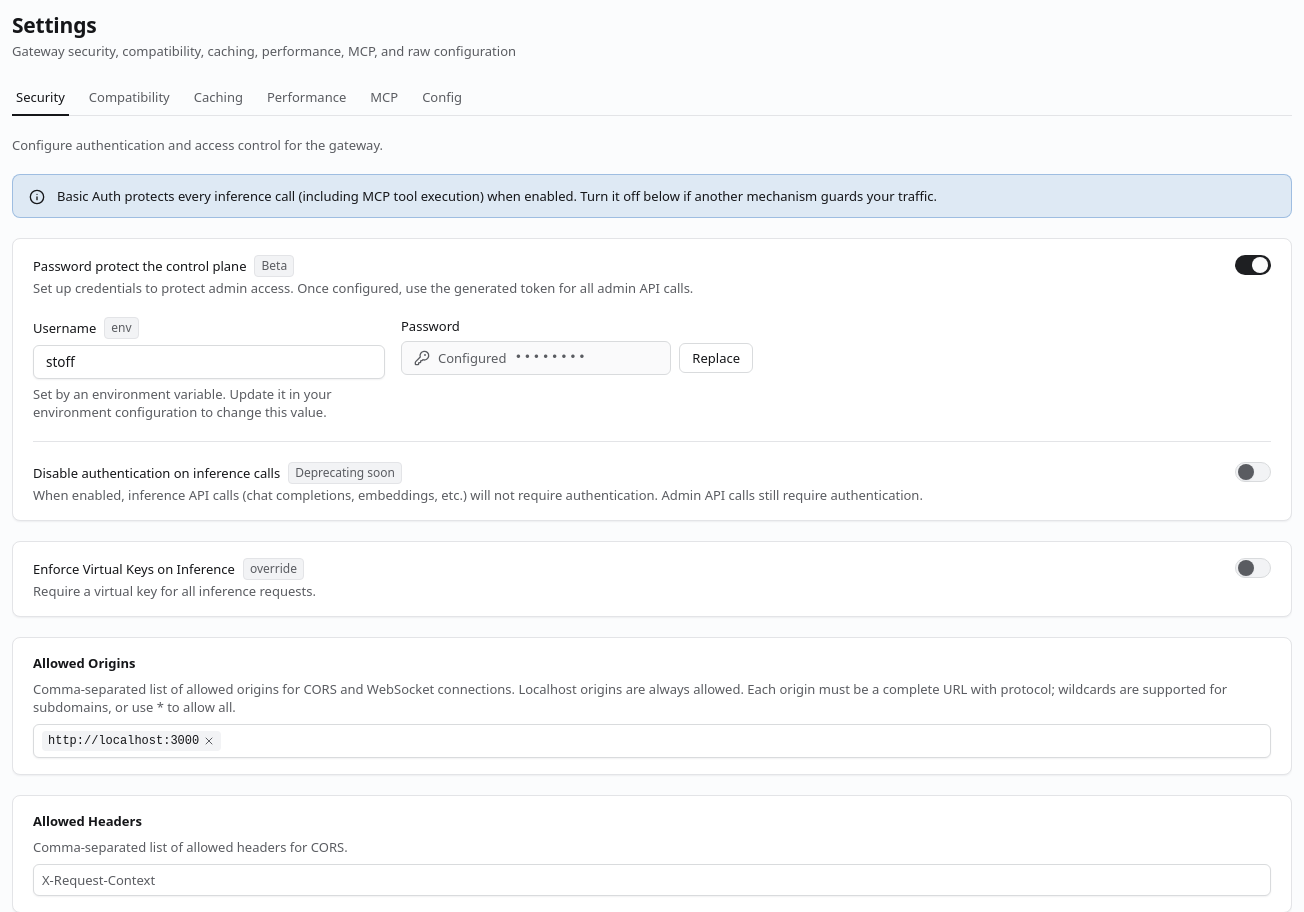
SettingsView compatibility › renders four toggles and saves only the changed one
Click the tab "Compatibility" at (129, 98), box [85, 80, 174, 116]
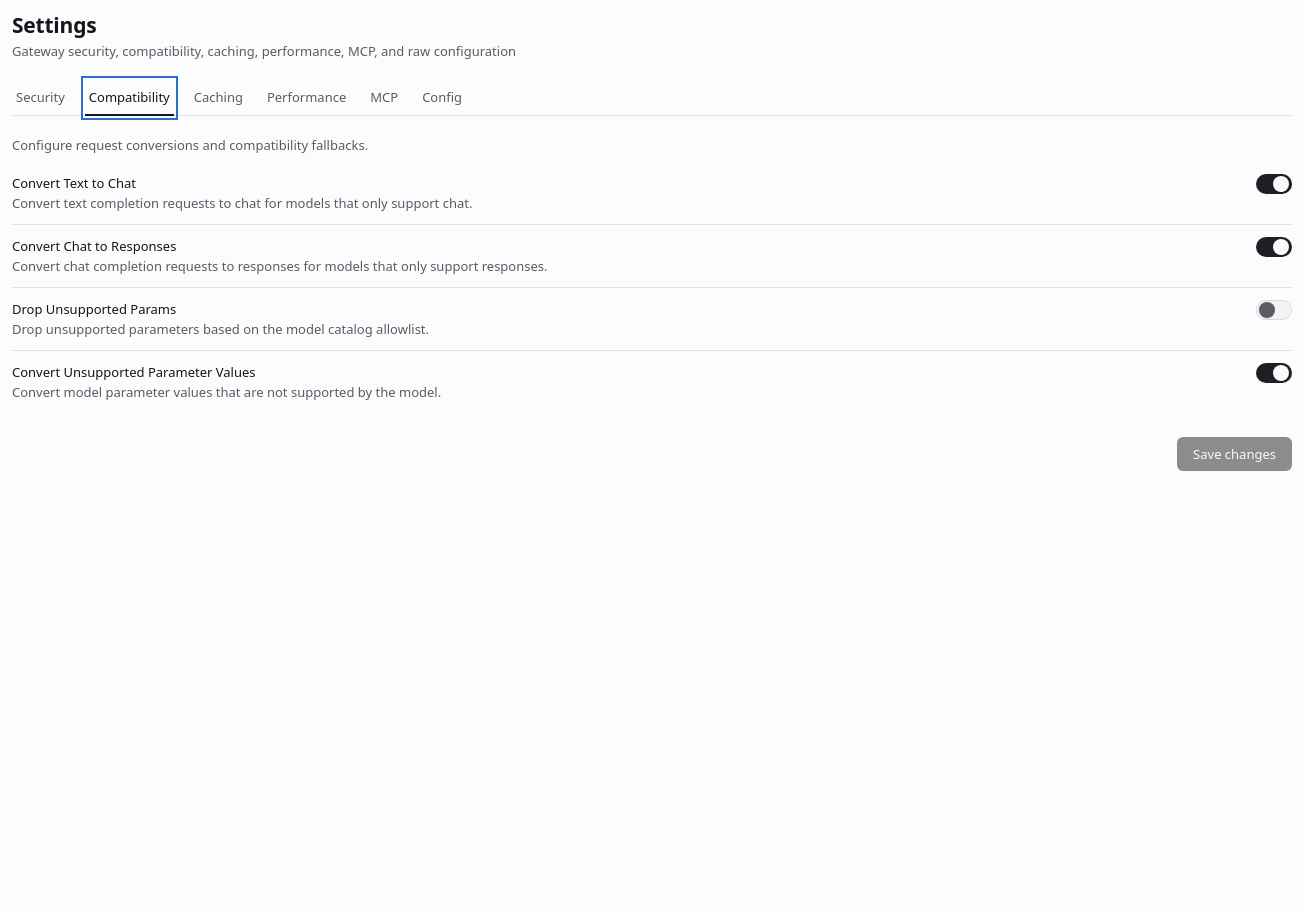
Check: the switch named "Convert Text to Chat" is shown, box [1256, 174, 1292, 194]
Check: the switch named "Drop Unsupported Params" is shown
Click the switch named "Drop Unsupported Params" at (1274, 310), box [1256, 300, 1292, 320]
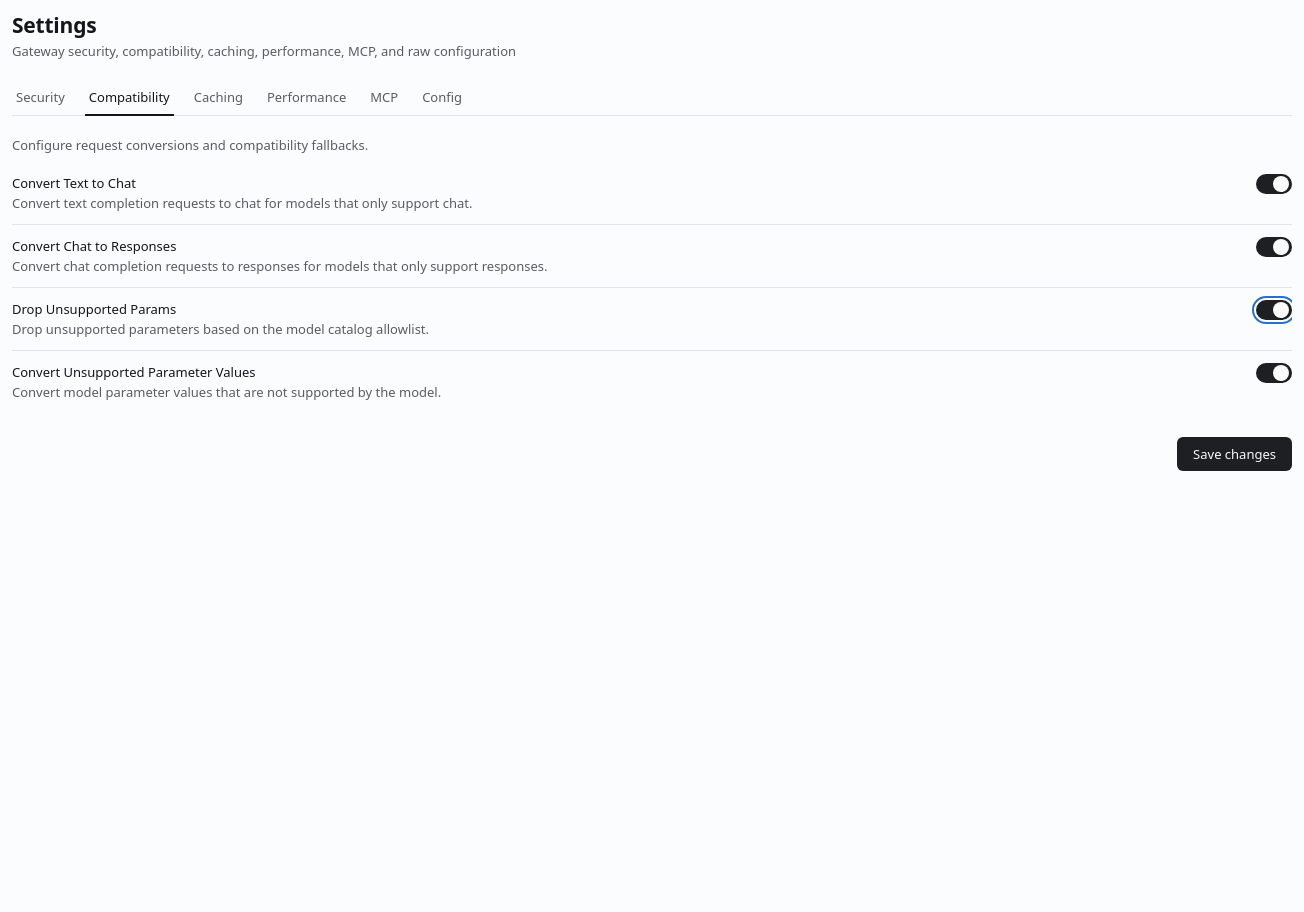
Click the button "Save changes" at (1235, 454), box [1177, 437, 1292, 471]
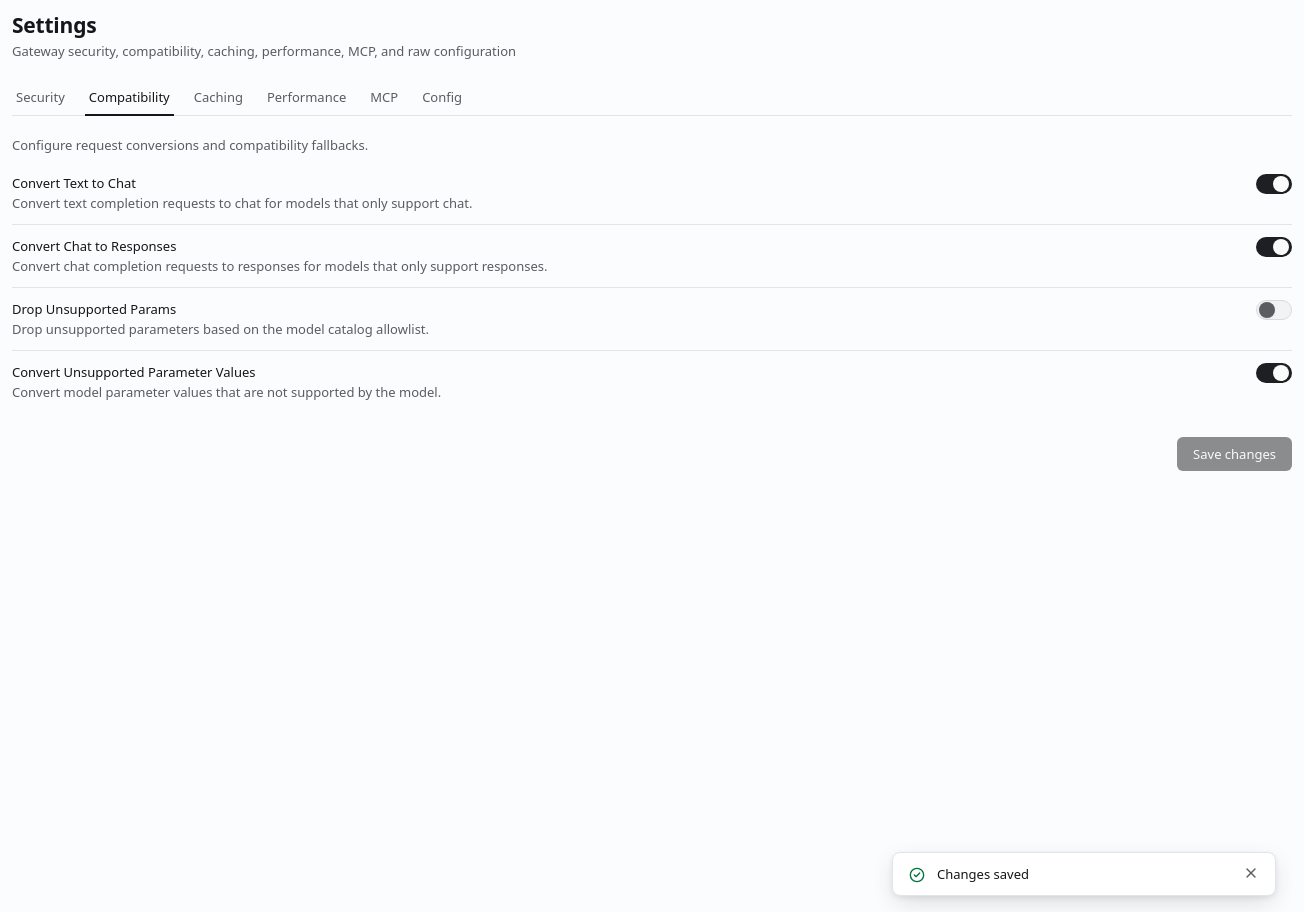
Check: the text "Changes saved" is shown, box [937, 865, 1029, 883]
